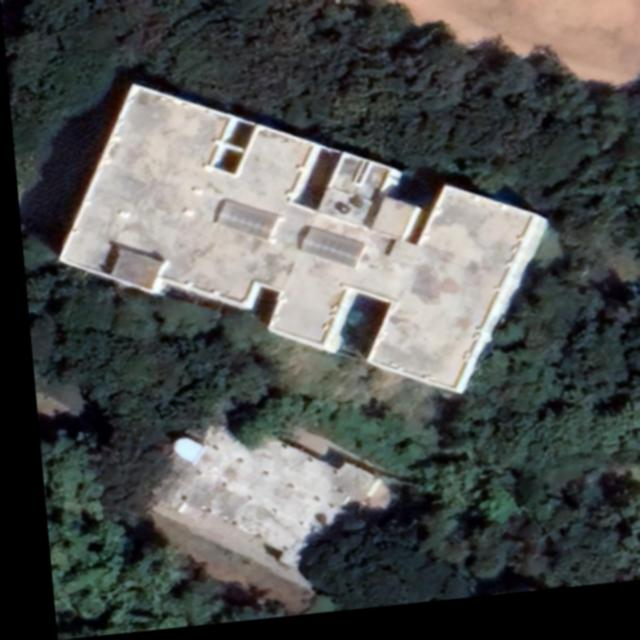Batiment: (54, 87, 539, 401), (141, 431, 379, 597)
